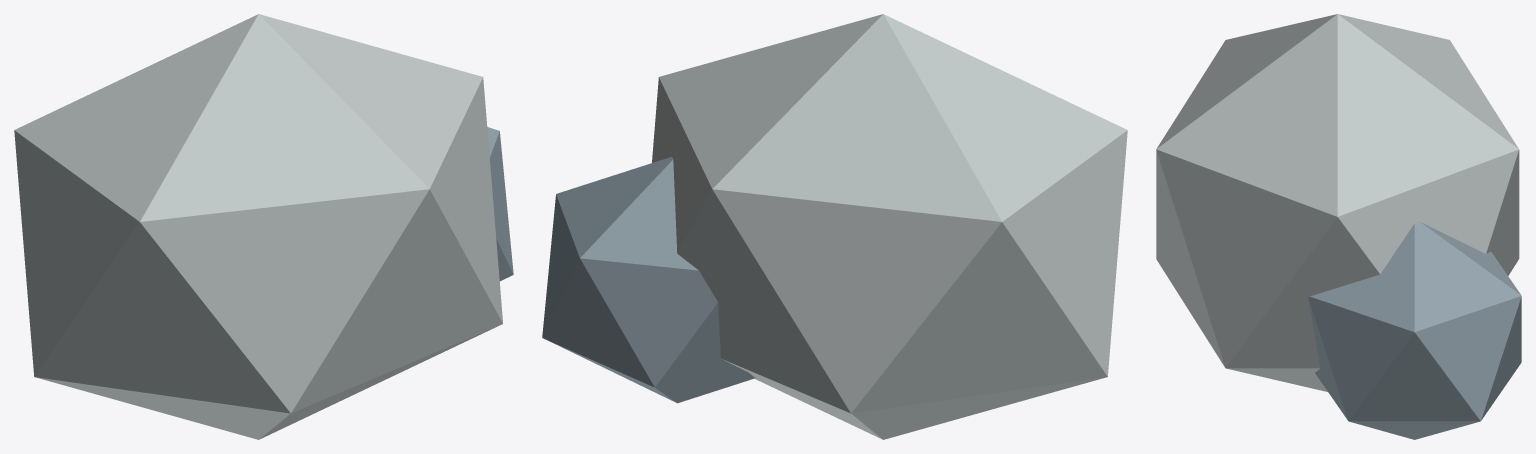
The model's file is rock.fbx.
3 renders of one model, left to right at view 1: azimuth 30°, elevation 25°; view 2: azimuth 150°, elevation 25°; view 3: azimuth 270°, elevation 25°, orthographic. The views are drawn at different scales.
Parts seen in each view (by area): view 1: rock_mesh; view 2: rock_mesh; view 3: rock_mesh.
Boxes of the visible parts, bbox=[...] form: rock_mesh: bbox=[14, 14, 513, 439]; rock_mesh: bbox=[542, 14, 1127, 439]; rock_mesh: bbox=[1156, 14, 1521, 439].
Bounding box in the file's own units: 1.5 × 1.2 × 1.05.
